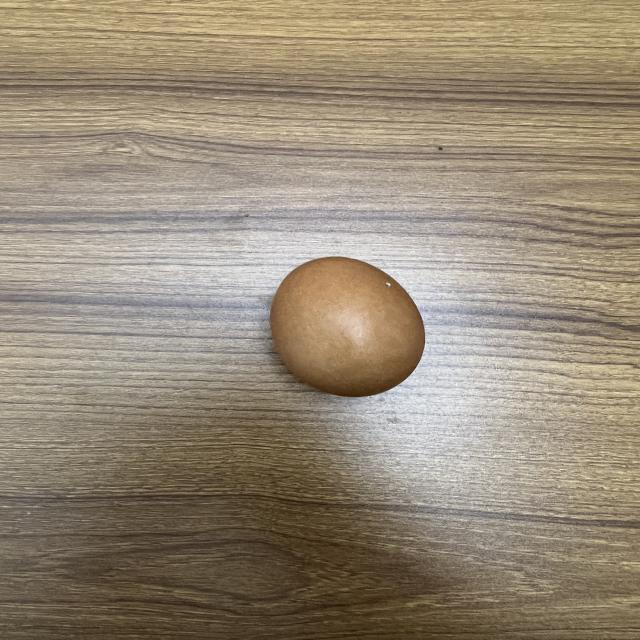egg: (259, 251, 434, 400)
